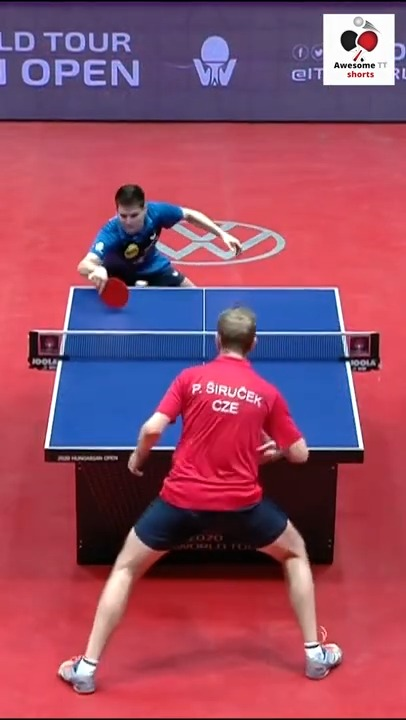Ball: (136, 276, 148, 291)
